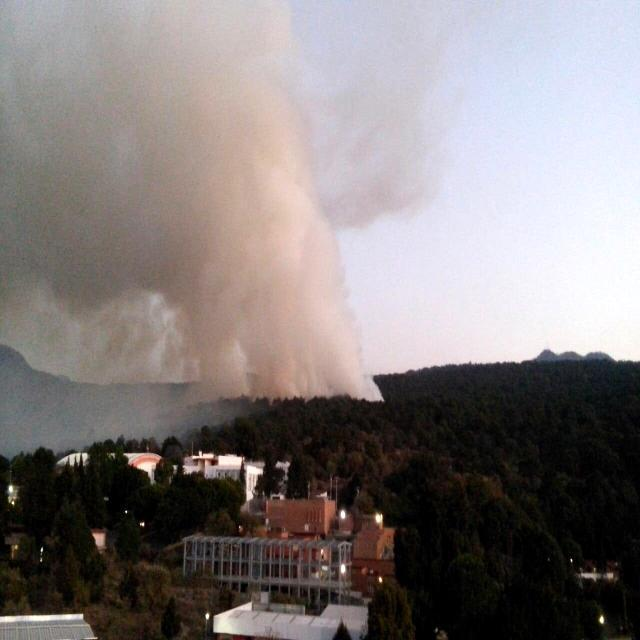Smoke: (0, 0, 434, 405)
